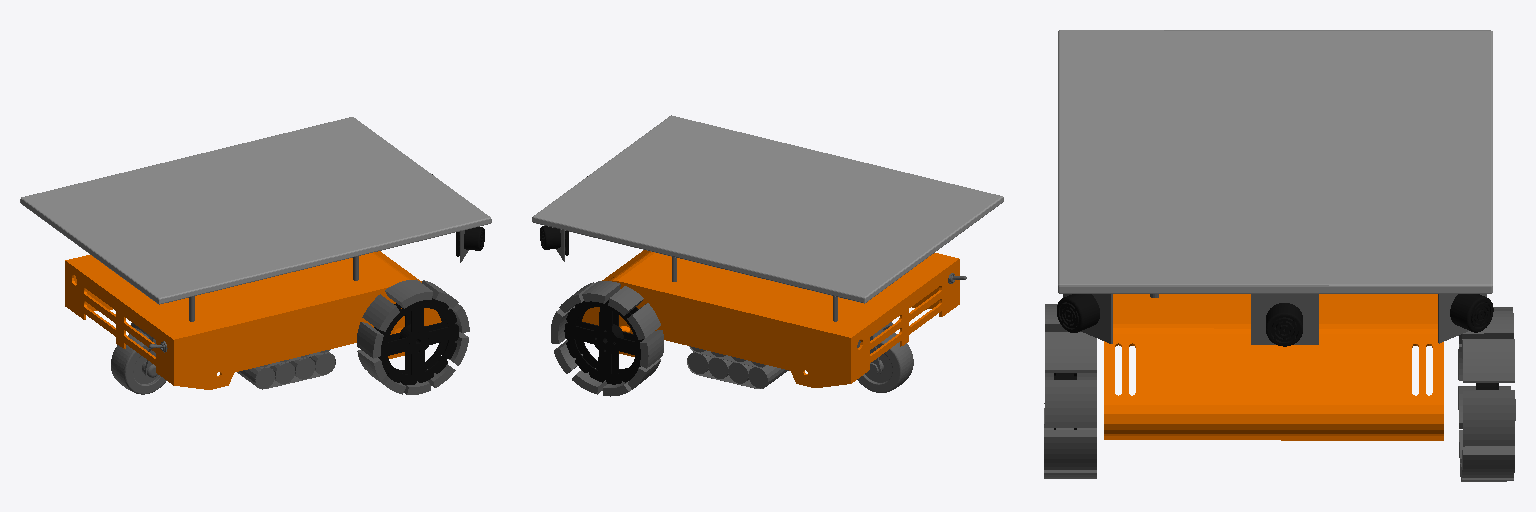
URDF robot description (traxbot):
<?xml version="1.0"?>
<robot name="traxbot">

	<!--<link name="base_link"></link>

	<link name="stingbot_frame">
		<visual>
			<origin rpy="0.0 0 0" xyz="0 0 0"/>
			<geometry>
				<mesh filename="package://stingbot_description/mesh/stingbot.dae" />
			</geometry>
		</visual>
	</link>

	<joint name="world2stingbot" type="continuous">
		<parent link="base_link"/>
		<child link="stingbot_frame"/>
		<origin rpy="0 0 0" xyz="0 0 0"/>
	      </joint> -->
	      
<!--chassis-->	      
    <link
      name="base_link"> 
	<inertial>
	  <origin xyz="-0.0149981782424793 -0.0349809405562937 0.0140772763498253" rpy="0 0 0" />
	  <mass value="0.124910312739102" />
	  <inertia ixx="0.000386495563459737" ixy="-6.11559049104616E-05" ixz="5.40436406924131E-09" iyy="0.00101301336802307" iyz="-1.7898560352296E-08" izz="0.000695422084265238" />
	</inertial>
	<visual>
	  <!--<origin xyz="0 0 0" rpy="0 0 0" />-->
	    <origin xyz="0 0 0.025" rpy="-1.5705 0 3.1415" /> <!-- 1.57075-->
	  <geometry>
	    <mesh filename="package://mrl_robots_description/mesh/traxbot_parts/chassi.STL" />
	  </geometry>
	  <material name="">
	      <color rgba="0.933 0.463 0.0 1.0" /> <!-- ORANGE -->
	  </material>
	</visual>
	<collision>
	  <origin xyz="0 0 0.025" rpy="-1.5705 0 3.1415" />
	  <geometry>
	    <mesh filename="package://mrl_robots_description/mesh/traxbot_parts/chassi.STL" />
	  </geometry>
	</collision>
      </link>
      

<!--acrylic-->
  <link
    name="acrylic_support">
    <inertial>
      <origin
        xyz="-0.00462285904100312 -0.0920628918130356 0.013408571071902"
        rpy="0 0 0" />
      <mass
        value="0.255780680181752" />
      <inertia
        ixx="0.000784882089106079"
        ixy="9.6127434466611E-22"
        ixz="-1.43877727795942E-19"
        iyy="0.00229054657299704"
        iyz="4.71658760369002E-20"
        izz="0.00150673459129938" />
    </inertial>
    <visual>
      <origin
        xyz="0 0 0.025"
        rpy="-1.5705 0 3.1415" />
      <geometry>
        <mesh
	  filename="package://mrl_robots_description/mesh/traxbot_parts/acrylic_support.STL" />
      </geometry>
      <material
        name="">
        <color
          rgba="0.6 0.6 0.6 0.35" />
      </material>
    </visual>
    <collision>
      <origin
        xyz="0 0 0.025"
        rpy="-1.5705 0 3.1415" />
      <geometry>
        <mesh
          filename="package://mrl_robots_description/mesh/traxbot_parts/acrylic_support.STL" />
      </geometry>
    </collision>
  </link> 
  
  	<joint name="chassis_acrylic_joint" type="fixed">
		<origin xyz="0 0 0" rpy="0 0 0"/>
		<parent link="base_link"/>
		<child link="acrylic_support"/>
	</joint>
	
<!--tracks, battery & caster wheel-->	
  <link
    name="tracks_bat_caster">
    <inertial>
      <origin
        xyz="-0.00927195109867125 -0.00457785661699442 0.0132760244791211"
        rpy="0 0 0" />
      <mass
        value="0.259853872411689" />
      <inertia
        ixx="0.000725199011404441"
        ixy="4.92296632931373E-05"
        ixz="2.27119297470133E-05"
        iyy="0.00134102601029168"
        iyz="-5.1196240251421E-06"
        izz="0.000839684734562503" />
    </inertial>
    <visual>
      <origin
        xyz="0 0 0.025"
        rpy="-1.5705 0 3.1415" />
      <geometry>
        <mesh
          filename="package://mrl_robots_description/mesh/traxbot_parts/tracks_bat_caster.STL" />
      </geometry>
      <material
        name="">
	  <!--<color rgba="0.796078431372549 0.823529411764706 0.937254901960784 1" />-->
	  <color rgba="0.4 0.4 0.4 1.0" />
      </material>
    </visual>
    <collision>
      <origin
        xyz="0 0 0.025"
        rpy="-1.5705 0 3.1415" />
      <geometry>
        <mesh
          filename="package://mrl_robots_description/mesh/traxbot_parts/tracks_bat_caster.STL" />
      </geometry>
    </collision>
  </link>
  
  
    	<joint name="chassis_tracks_joint" type="fixed">
		<origin xyz="0 0 0" rpy="0 0 0"/>
		<parent link="base_link"/>
		<child link="tracks_bat_caster"/>
	</joint>
	

 <!--side wheels and sonars -->
  <link
    name="wheels_sonars">
    <inertial>
      <origin
        xyz="-0.100239488546049 -0.041008827320776 0.012665618179318"
        rpy="0 0 0" />
      <mass
        value="0.0231359189987207" />
      <inertia
        ixx="0.000188118536971804"
        ixy="1.87439783835499E-05"
        ixz="2.05906399186075E-07"
        iyy="0.000182271313427262"
        iyz="3.19550777538589E-07"
        izz="4.41297044977878E-05" />
    </inertial>
    <visual>
      <origin
        xyz="0 0 0.025"
        rpy="-1.5705 0 3.1415" />
      <geometry>
        <mesh
          filename="package://mrl_robots_description/mesh/traxbot_parts/wheels_sonars.STL" />
      </geometry>
      <material
        name="">
        <color rgba="0.1 0.1 0.1 1.0" />
      </material>
    </visual>
    <collision>
      <origin
        xyz="0 0 0.025"
        rpy="-1.5705 0 3.1415" />
      <geometry>
        <mesh
          filename="package://mrl_robots_description/mesh/traxbot_parts/wheels_sonars.STL" />
      </geometry>
    </collision>
  </link>
  
      	<joint name="chassis_wheels_joint" type="fixed">
		<origin xyz="0 0 0" rpy="0 0 0"/>
		<parent link="base_link"/>
		<child link="wheels_sonars"/>
	</joint>
      

</robot>

--- Facts derived from the render (not from the file) ---
Views: 3 orthographic renders of the robot side by side, from view 1: azimuth 30°, elevation 25°; view 2: azimuth 150°, elevation 25°; view 3: azimuth 270°, elevation 25°.
Robot: traxbot — 4 links, 3 joints (3 fixed); root link base_link; default pose: every joint at zero.
Visible links, largest first — view 1: acrylic_support, base_link, tracks_bat_caster, wheels_sonars; view 2: acrylic_support, base_link, tracks_bat_caster, wheels_sonars; view 3: acrylic_support, base_link, tracks_bat_caster, wheels_sonars.
Link boxes in pixels (x1,y1,x2,y2): acrylic_support: (20, 117, 491, 304); base_link: (65, 251, 441, 389); tracks_bat_caster: (111, 230, 469, 394); wheels_sonars: (374, 174, 484, 384); acrylic_support: (532, 115, 1003, 303); base_link: (582, 250, 959, 387); tracks_bat_caster: (551, 229, 966, 396); wheels_sonars: (540, 176, 643, 384); acrylic_support: (1058, 30, 1492, 293); base_link: (1104, 294, 1443, 440); tracks_bat_caster: (1044, 294, 1515, 481); wheels_sonars: (1054, 294, 1498, 429).
Size in the robot's own frame: 0.2763 by 0.2077 by 0.1193 metres.
Meshes: 4 distinct files referenced, 4 mesh visuals loaded (4 binary STL).